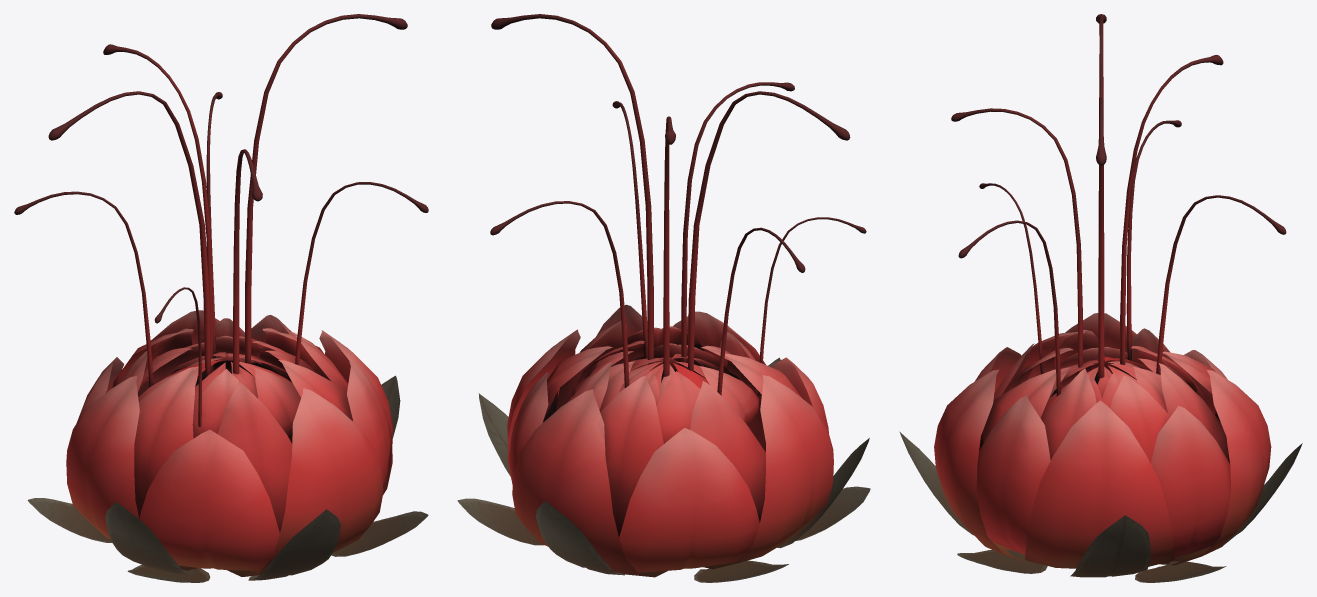
File: flower.fbx
3 renders of one model, left to right at view 1: azimuth 30°, elevation 25°; view 2: azimuth 150°, elevation 25°; view 3: azimuth 270°, elevation 25°, orthographic. The views are drawn at different scales.
Parts seen in each view (by area): view 1: PlantFlower8; view 2: PlantFlower8; view 3: PlantFlower8.
Part boxes in pixels (left/top/right/bottom): PlantFlower8: left=14, top=14, right=428, bottom=582; PlantFlower8: left=457, top=14, right=870, bottom=582; PlantFlower8: left=899, top=14, right=1302, bottom=582.
Bounding box in the file's own units: 7.44 × 9.8 × 7.41.
Materials: 1 (1 with a texture image).
